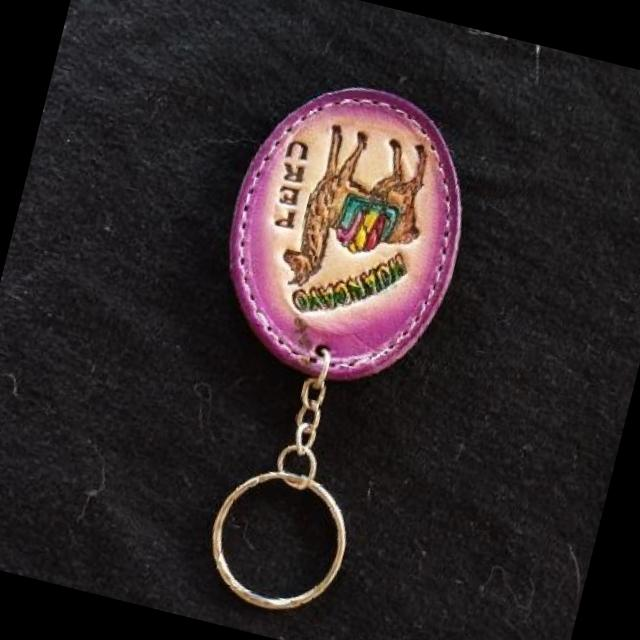Llavero: (198, 61, 492, 404)
